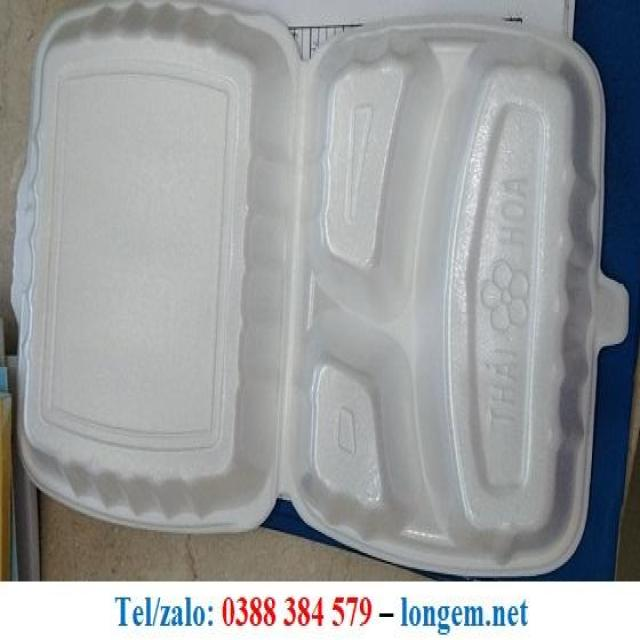styrofoam: (10, 0, 630, 578)
